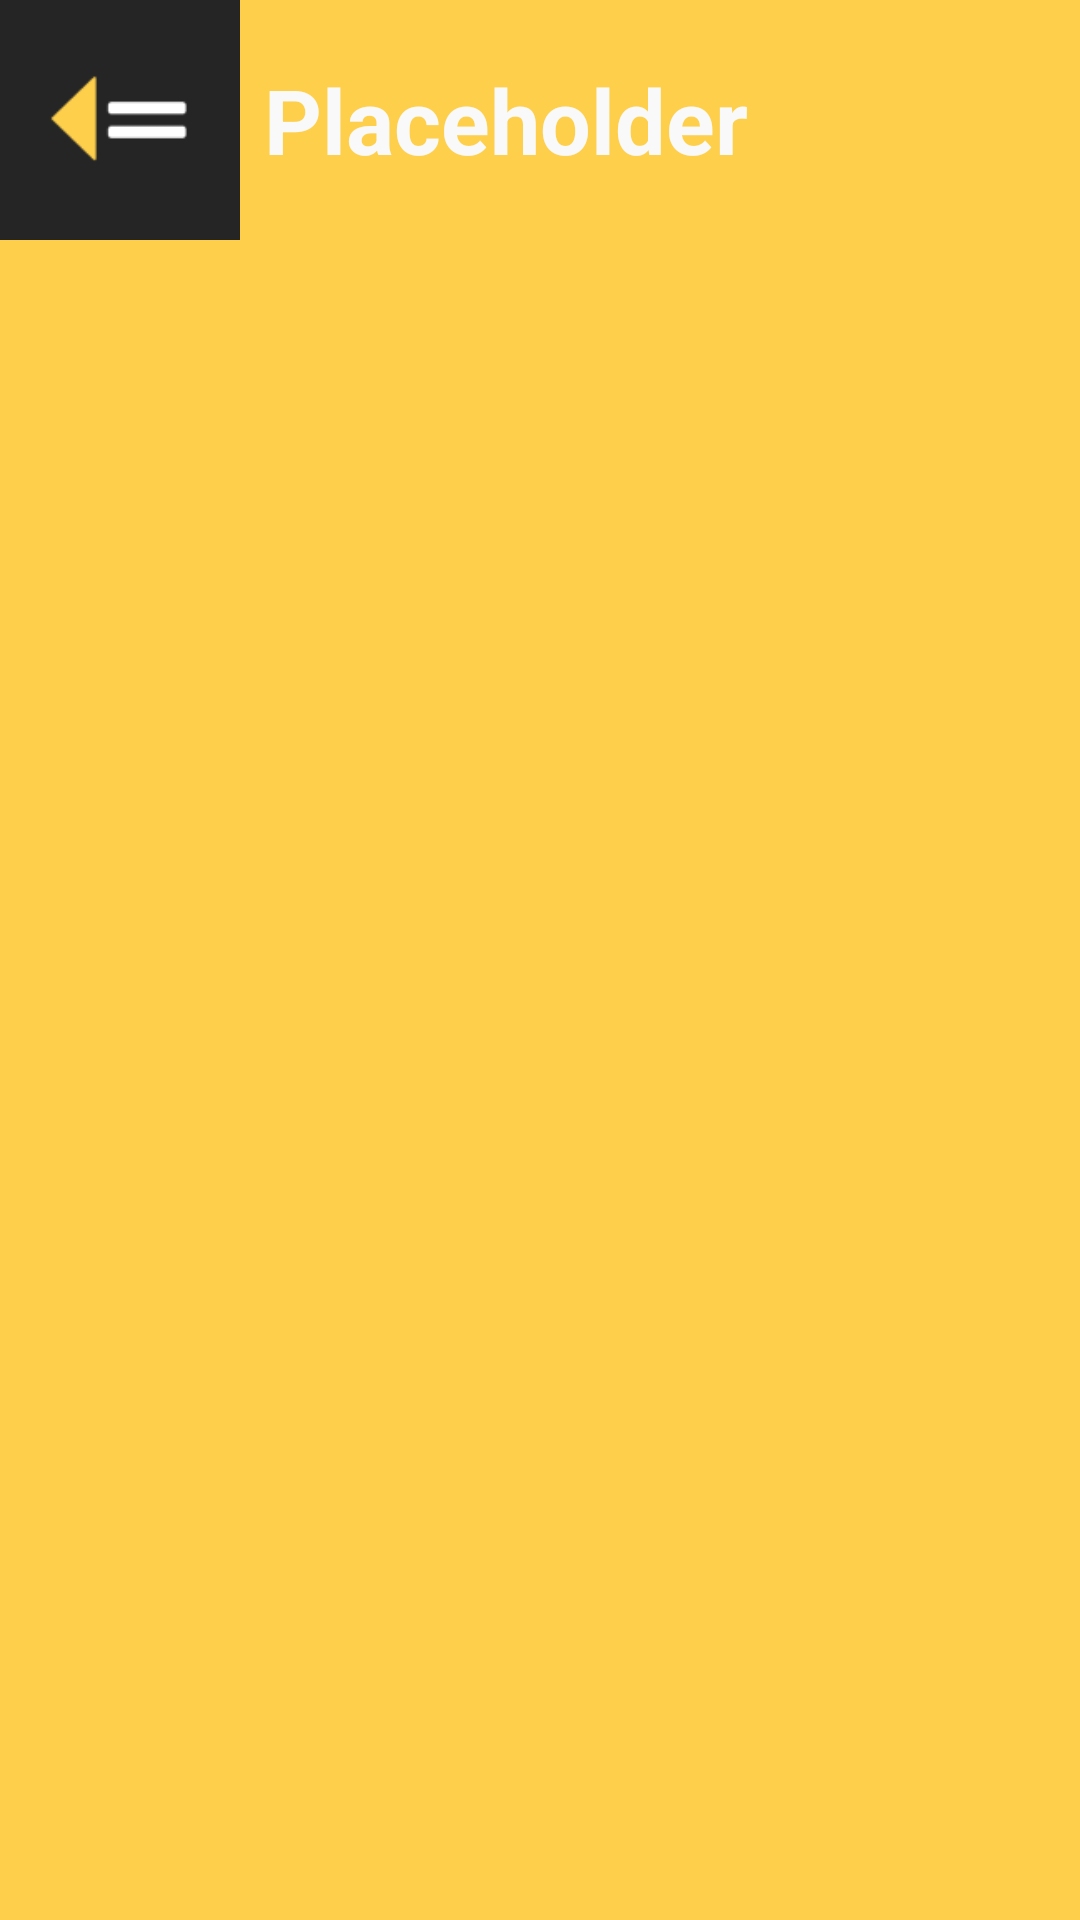

Named icons in this screenshot (1080px×1920px) and their bounding boxes, {"left": x1, "top": y1, "right": x2, "bottom": y2}:
back: {"left": 0, "top": 0, "right": 240, "bottom": 240}
